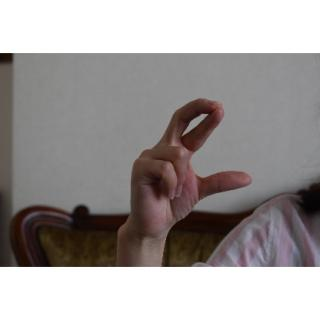DHELL: (117, 93, 264, 243)
